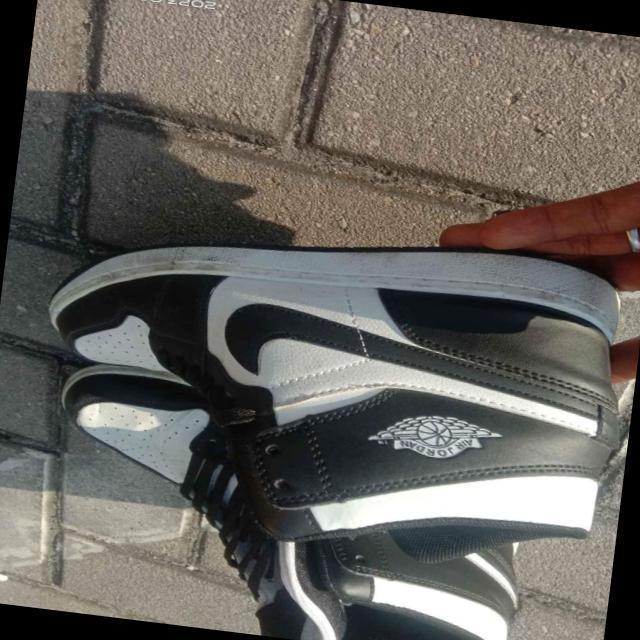nike fake jordan 1: (15, 196, 636, 588), (27, 356, 547, 640)
